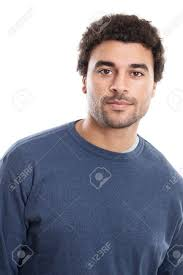middle_eastern_male: (84, 32, 155, 123)
